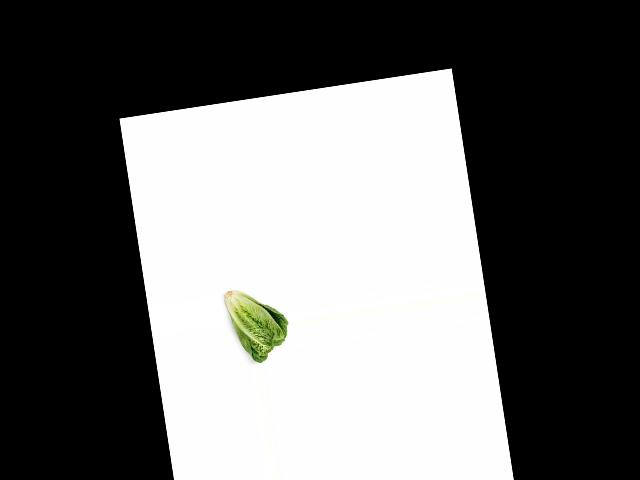lettuce: (221, 281, 292, 366)
